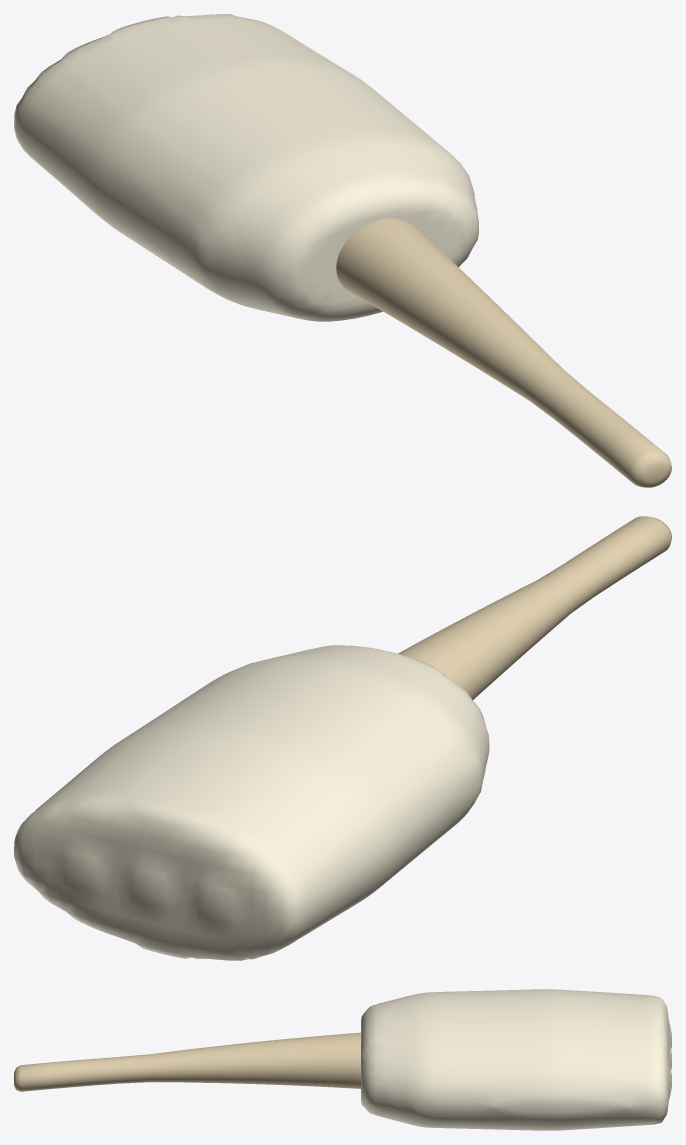
The model's file is central-incisor.glb.
The picture shows the model from 3 angles, top to bottom: view 1: azimuth 30°, elevation 25°; view 2: azimuth 150°, elevation 25°; view 3: azimuth 270°, elevation 25°; orthographic projection. The views are drawn at different scales.
Parts seen in each view (by area): view 1: Crown_Anatomical, Root_1; view 2: Crown_Anatomical, Root_1; view 3: Crown_Anatomical, Root_1.
Boxes of the visible parts, x1,y1,x2,y2 form: Crown_Anatomical: (14, 14, 478, 321); Root_1: (336, 218, 671, 487); Crown_Anatomical: (14, 645, 489, 960); Root_1: (398, 516, 671, 699); Crown_Anatomical: (361, 989, 671, 1130); Root_1: (14, 1032, 360, 1091).
Size of the model in its own units: 0.7718 by 0.4144 by 2.31.
